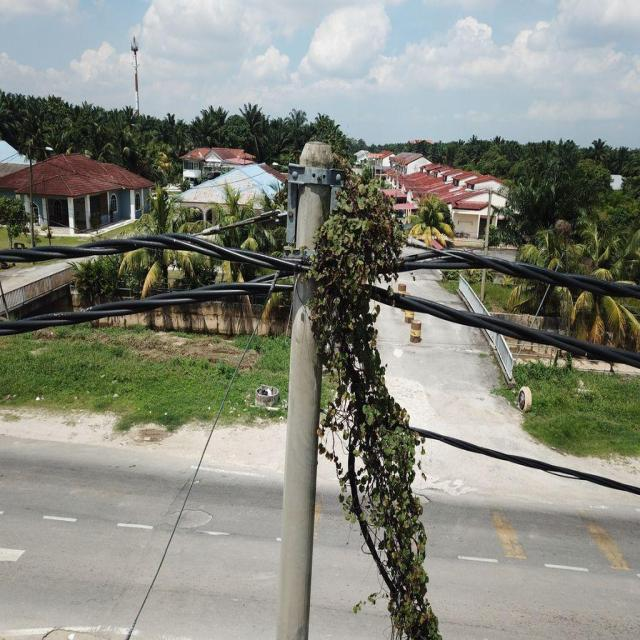light_pole: (292, 167, 445, 636)
